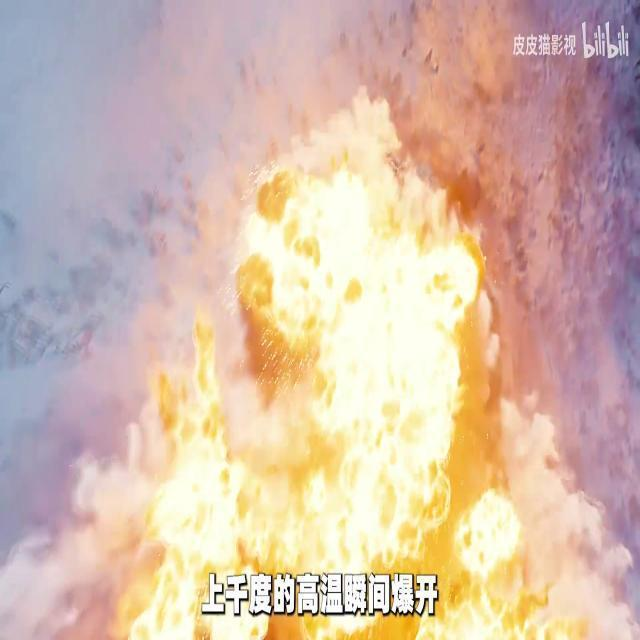fire: (105, 85, 631, 639)
